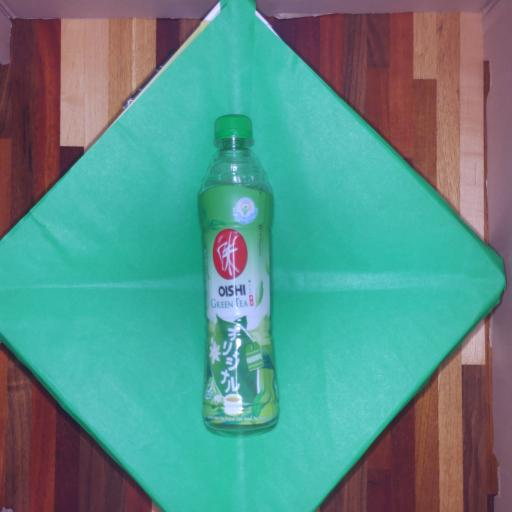bottle: (199, 115, 278, 430)
